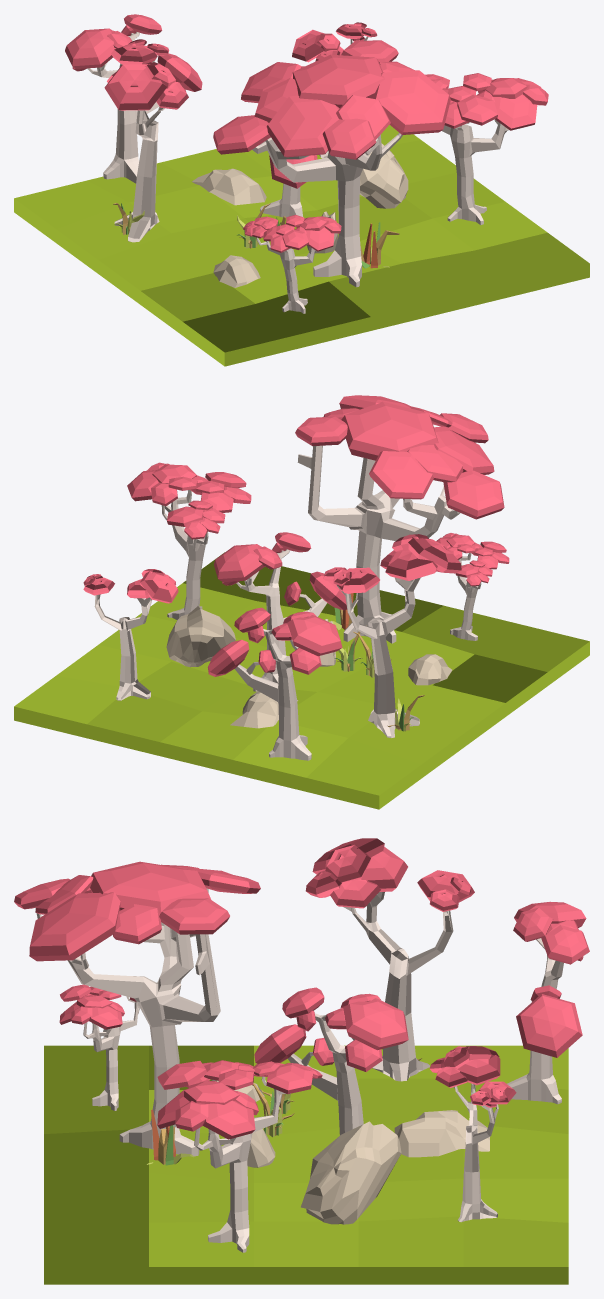
Rendered from floortile_2_pivot_GOED.fbx.
3 renders of one model, top to bottom at view 1: azimuth 30°, elevation 25°; view 2: azimuth 150°, elevation 25°; view 3: azimuth 270°, elevation 25°, orthographic. The views are drawn at different scales.
Visible parts, largest first — view 1: floortile, boom_7_MOD, boom_6_MOD, boom_3_MOD, boom_5_MOD, boom_2_MOD, rock_2_MOD, boom_4_MOD, rock_3_MOD, boom_1_MOD, rock_4_MOD, grasses_3_MOD; view 2: floortile, boom_7_MOD, boom_5_MOD, boom_3_MOD, boom_6_MOD, boom_1_MOD, boom_4_MOD, boom_2_MOD, rock_2_MOD, rock_3_MOD, rock_4_MOD; view 3: floortile, boom_7_MOD, boom_6_MOD, boom_3_MOD, boom_1_MOD, boom_5_MOD, rock_2_MOD, boom_4_MOD, boom_2_MOD, rock_3_MOD, grasses_3_MOD, rock_1_MOD.
Part boxes in pixels (bbox=[...]): floortile: bbox=[14, 125, 589, 366]; boom_7_MOD: bbox=[213, 40, 450, 287]; boom_6_MOD: bbox=[425, 73, 548, 225]; boom_3_MOD: bbox=[104, 39, 188, 242]; boom_5_MOD: bbox=[65, 14, 202, 183]; boom_2_MOD: bbox=[243, 214, 341, 313]; rock_2_MOD: bbox=[359, 143, 408, 208]; boom_4_MOD: bbox=[292, 22, 377, 158]; rock_3_MOD: bbox=[192, 168, 266, 205]; boom_1_MOD: bbox=[260, 66, 317, 217]; rock_4_MOD: bbox=[213, 255, 260, 287]; grasses_3_MOD: bbox=[360, 222, 399, 268]; floortile: bbox=[14, 552, 589, 809]; boom_7_MOD: bbox=[295, 395, 504, 643]; boom_5_MOD: bbox=[207, 607, 342, 760]; boom_3_MOD: bbox=[323, 534, 461, 737]; boom_6_MOD: bbox=[127, 462, 251, 619]; boom_1_MOD: bbox=[214, 532, 346, 691]; boom_4_MOD: bbox=[83, 569, 178, 700]; boom_2_MOD: bbox=[436, 533, 509, 640]; rock_2_MOD: bbox=[166, 606, 235, 667]; rock_3_MOD: bbox=[230, 691, 297, 728]; rock_4_MOD: bbox=[408, 654, 452, 685]; floortile: bbox=[44, 1045, 568, 1284]; boom_7_MOD: bbox=[14, 861, 260, 1156]; boom_6_MOD: bbox=[157, 1060, 322, 1252]; boom_3_MOD: bbox=[305, 838, 474, 1081]; boom_1_MOD: bbox=[254, 987, 408, 1135]; boom_5_MOD: bbox=[507, 901, 589, 1104]; rock_2_MOD: bbox=[301, 1121, 401, 1224]; boom_4_MOD: bbox=[429, 1046, 516, 1222]; boom_2_MOD: bbox=[59, 984, 139, 1110]; rock_3_MOD: bbox=[394, 1110, 489, 1157]; grasses_3_MOD: bbox=[147, 1109, 194, 1165]; rock_1_MOD: bbox=[247, 1129, 275, 1167].
Size of the model in its own units: 53.05 by 29.98 by 54.92.
